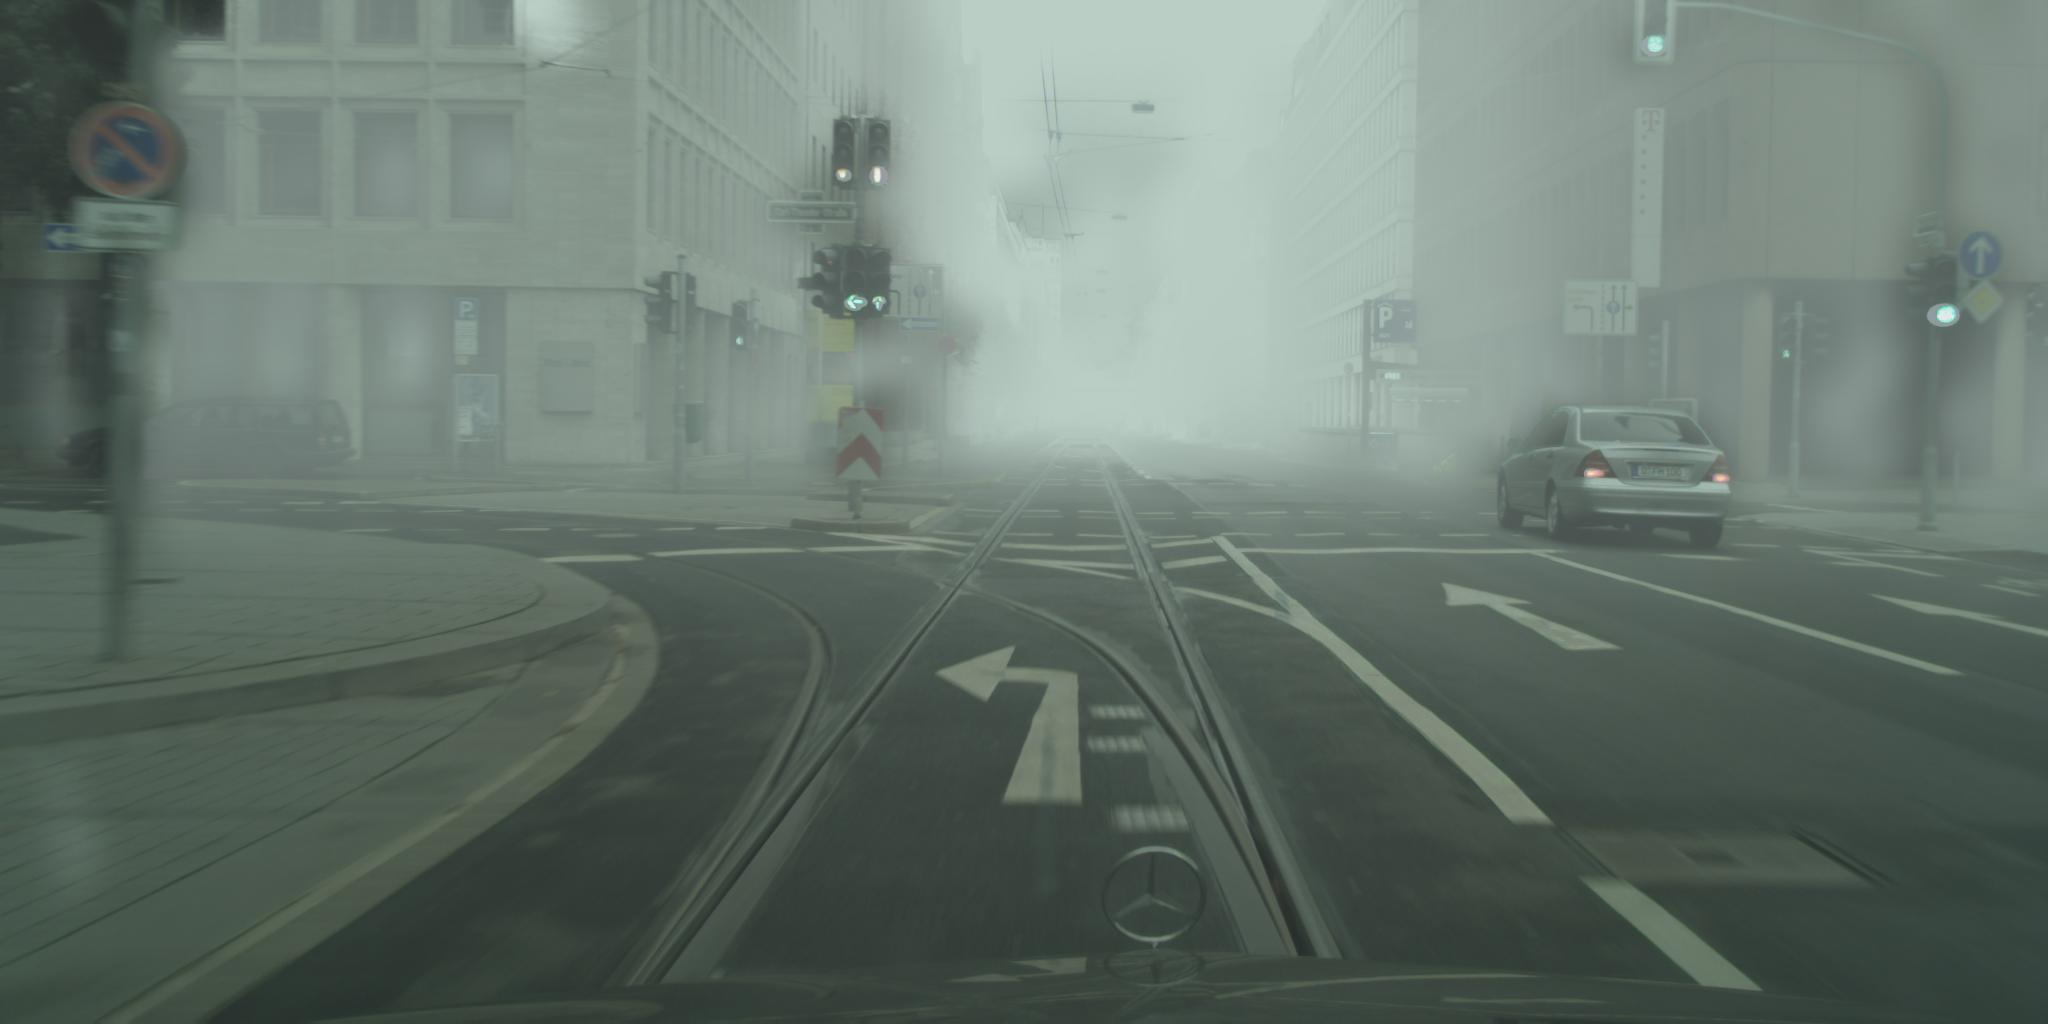bicycle: (1270, 434, 1305, 455)
car: (1498, 405, 1733, 550), (55, 394, 357, 485), (1223, 421, 1262, 452), (1108, 421, 1130, 439)
